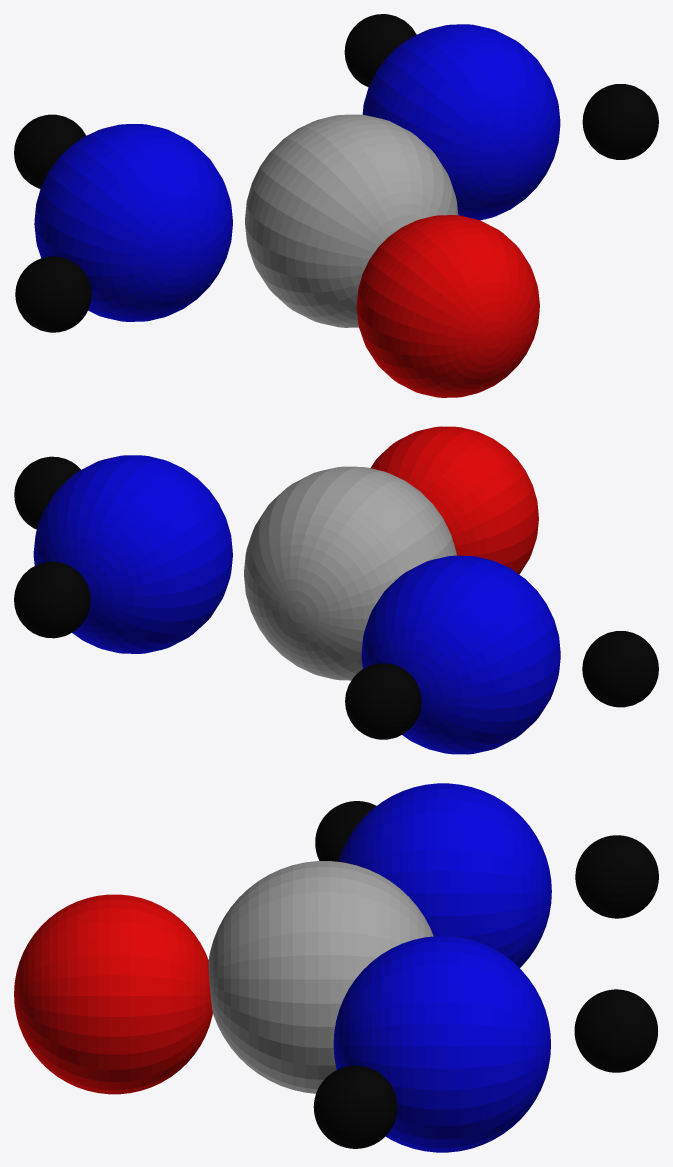
The model's file is Urea.glb.
3 views of the same model, one above another, from view 1: azimuth 30°, elevation 25°; view 2: azimuth 150°, elevation 25°; view 3: azimuth 270°, elevation 25° (orthographic). The views are drawn at different scales.
Parts seen in each view (by area): view 1: world; view 2: world; view 3: world.
Part boxes in pixels (x1,y1,x2,y2): world: [14, 14, 658, 397]; world: [14, 426, 658, 754]; world: [14, 783, 658, 1152].
Bounding box in the file's own units: 4.78 × 1.49 × 3.85.
